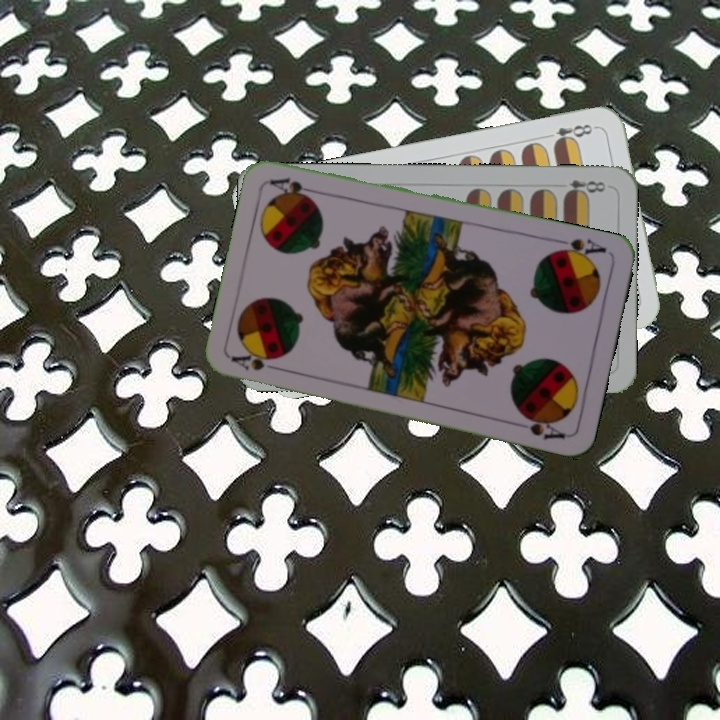E8: (540, 120, 599, 148), (560, 176, 608, 199)
SA: (549, 234, 609, 263), (227, 349, 287, 374)
